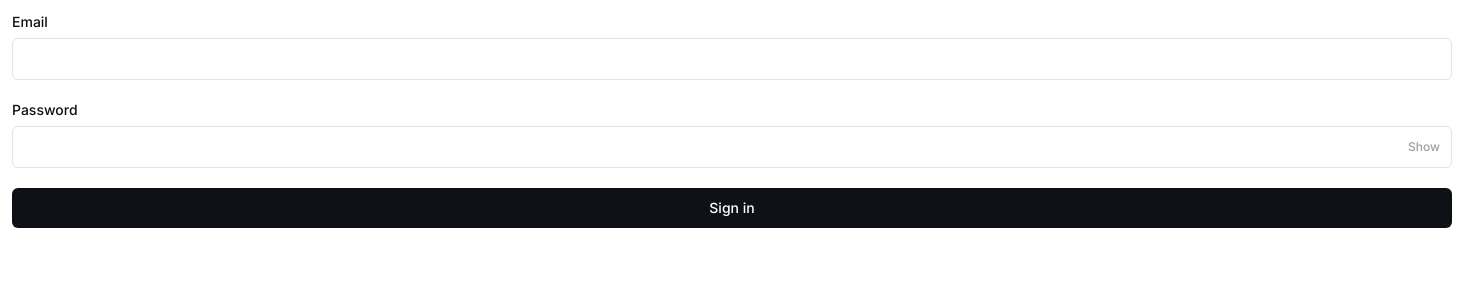
Test: LoginForm › shows the throttling message, with the wait, when too many attempts failed
The width and height of the screenshot is (1464, 301).
Type "sam@example.com" into the field labelled "Email". click: (732, 59)
box: x1=12 y1=38 x2=1452 y2=80
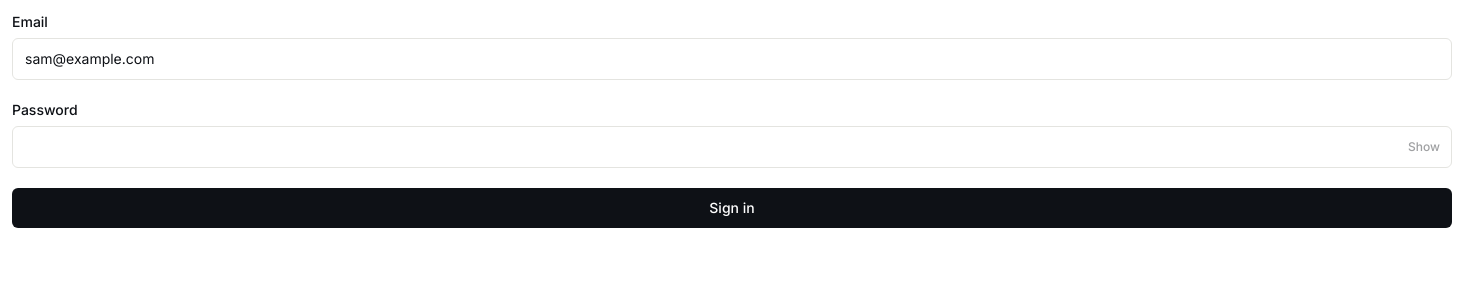
Type "Password123!" into the password field labelled "Password". click: (732, 147)
box: x1=12 y1=126 x2=1452 y2=168
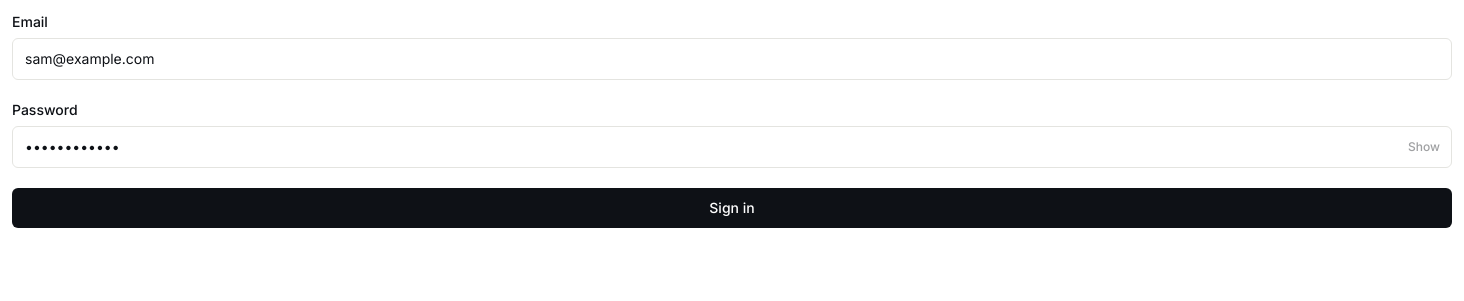
Click the button "Sign in". click: click(732, 208)
box: x1=12 y1=188 x2=1452 y2=228
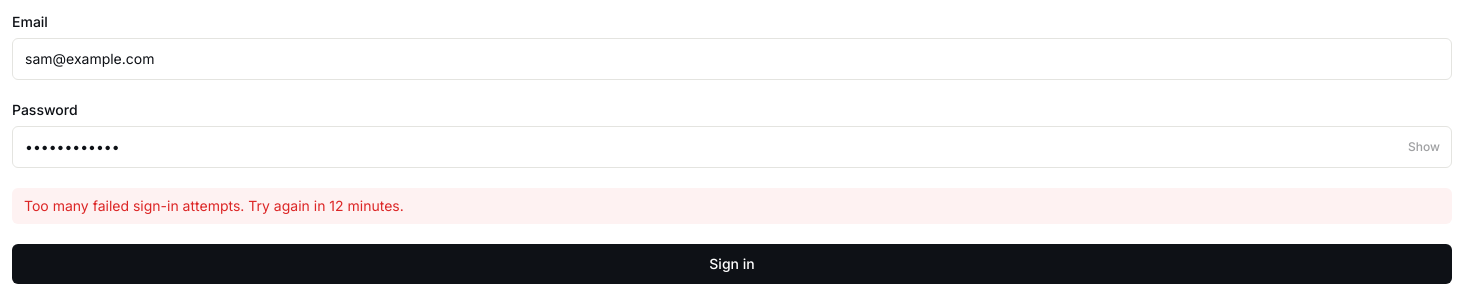
Expected: the button "Sign in" is enabled, x1=12 y1=244 x2=1452 y2=284
Now the text "Too many failed sign-in attempts. Try again in 12 minutes." is shown, box x1=12 y1=188 x2=1452 y2=224
